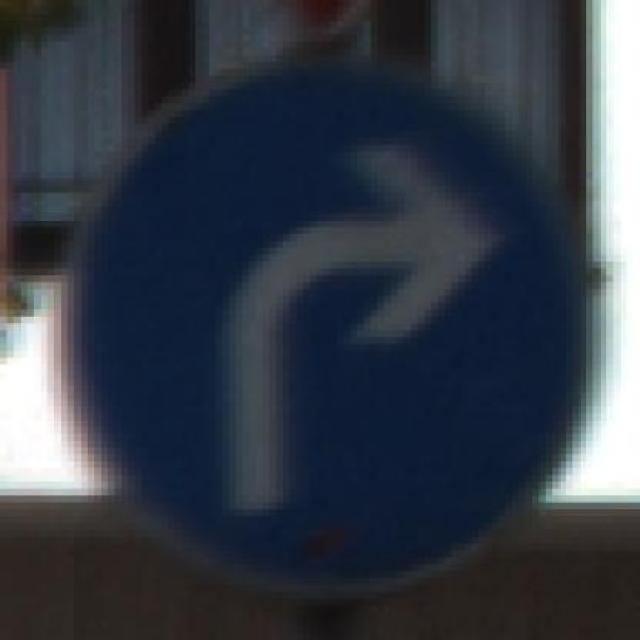Turn right ahead: (27, 34, 613, 612)
